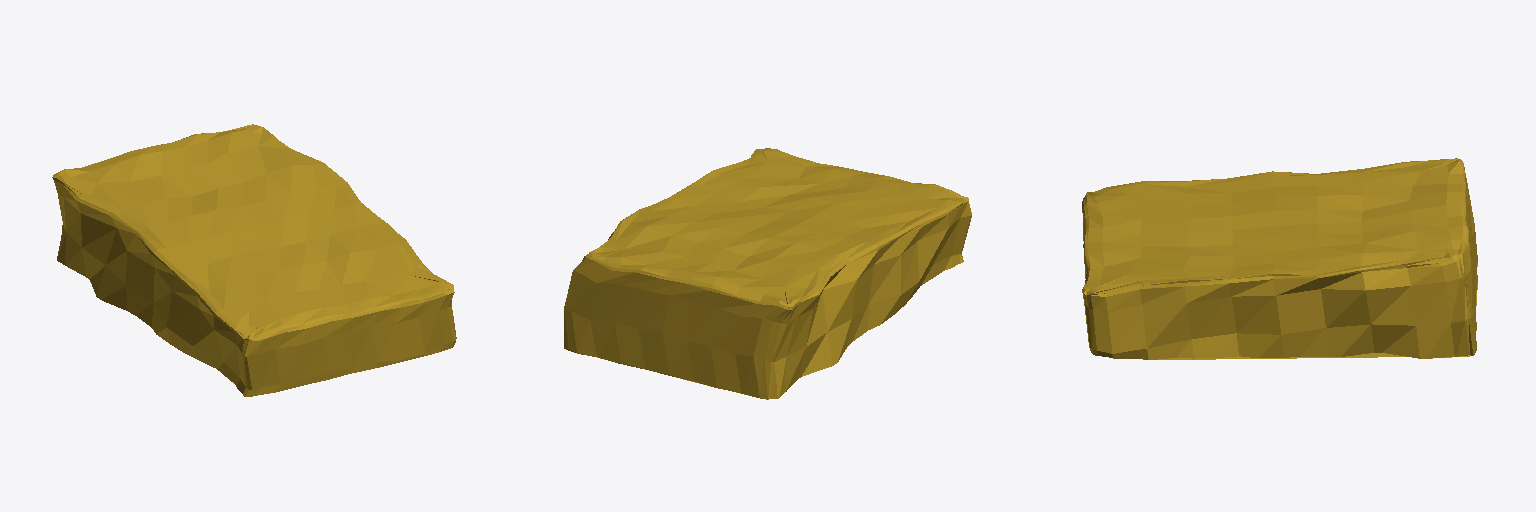
The picture shows the model from 3 angles: view 1: azimuth 30°, elevation 25°; view 2: azimuth 150°, elevation 25°; view 3: azimuth 270°, elevation 25°; orthographic projection.
Parts seen in each view (by area): view 1: Pancakes_Malha.002; view 2: Pancakes_Malha.002; view 3: Pancakes_Malha.002.
Part boxes in pixels (x1,y1,x2,y2): Pancakes_Malha.002: (52, 124, 456, 396); Pancakes_Malha.002: (564, 148, 971, 399); Pancakes_Malha.002: (1082, 158, 1477, 359).
Size of the model in its own units: 0.0631 by 0.0249 by 0.0934.
1 materials, 1 textured.